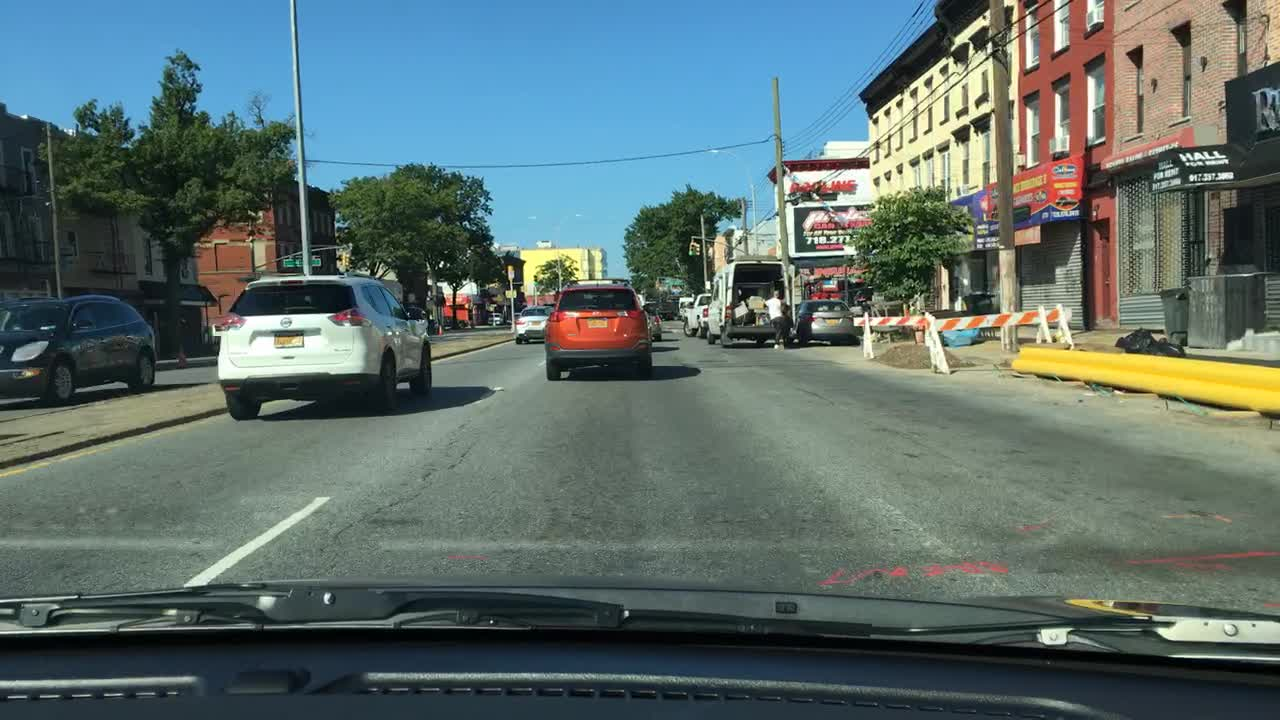car: (215, 273, 433, 420), (0, 293, 157, 409), (541, 278, 654, 381), (792, 297, 855, 348), (514, 303, 556, 343), (401, 302, 441, 337), (682, 292, 711, 338), (640, 301, 662, 341), (657, 298, 681, 320), (676, 296, 695, 319), (850, 297, 869, 318), (439, 314, 467, 328), (506, 310, 522, 327), (486, 313, 501, 324)
person: (762, 289, 787, 349)
traffic light: (506, 264, 514, 280), (693, 243, 700, 258), (343, 251, 349, 267), (688, 242, 694, 256), (533, 274, 538, 287)
traffic sign: (282, 258, 321, 267), (661, 278, 683, 285), (505, 289, 516, 298)
truck: (705, 257, 789, 351)
